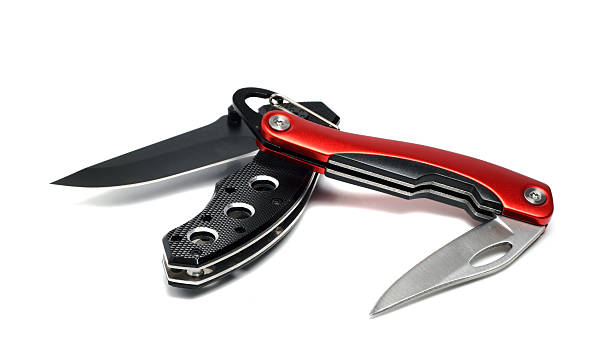knife: (366, 213, 548, 319), (47, 106, 261, 190)
